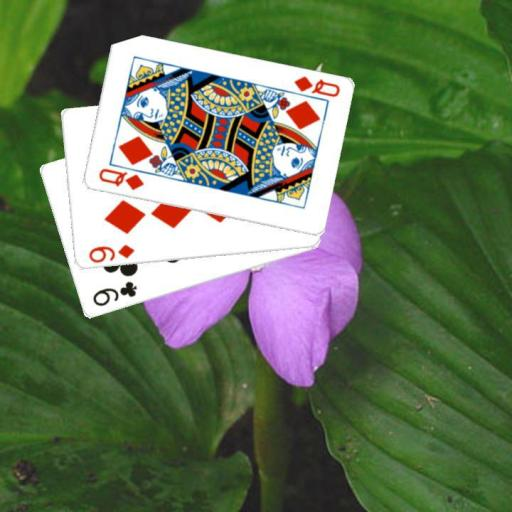9C: (89, 278, 139, 309)
9D: (85, 241, 136, 264)
QD: (290, 72, 341, 99), (95, 165, 145, 192)
